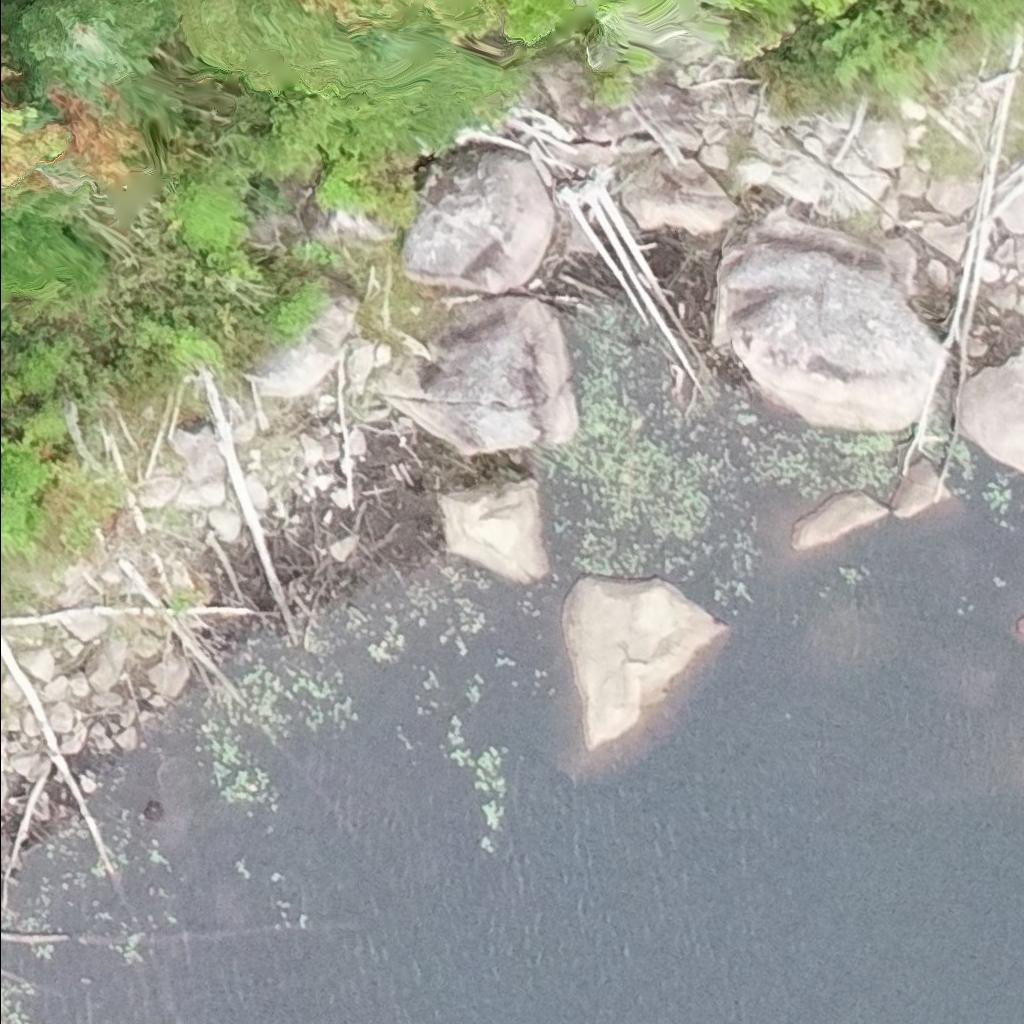crown: (0, 0, 182, 99), (0, 26, 77, 210), (172, 0, 310, 70), (297, 0, 446, 30)
